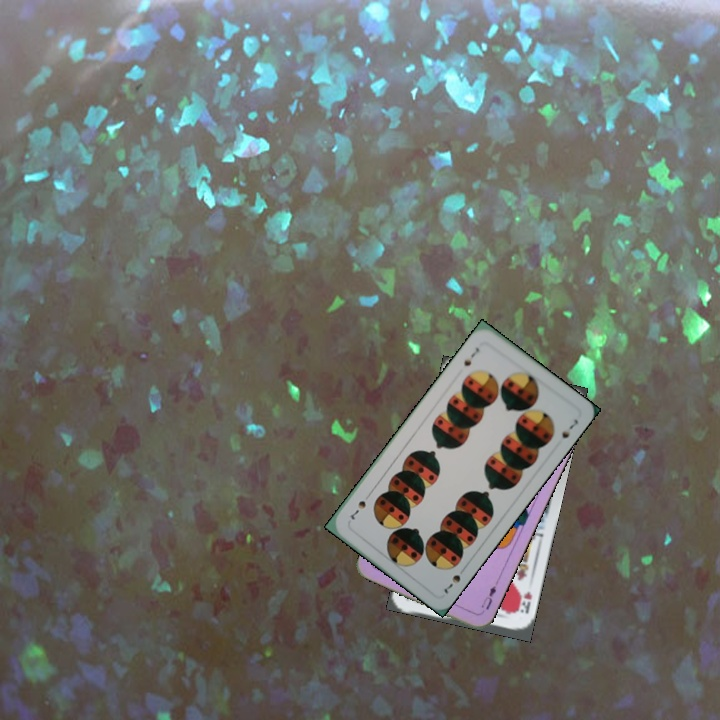EU: (477, 577, 501, 616)
HK: (516, 587, 535, 617)
S7: (440, 570, 463, 597), (460, 343, 482, 369)
